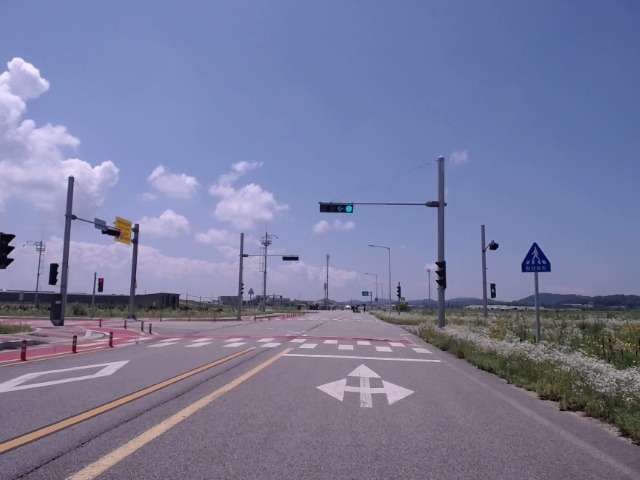all_green_4: (319, 202, 355, 213)
